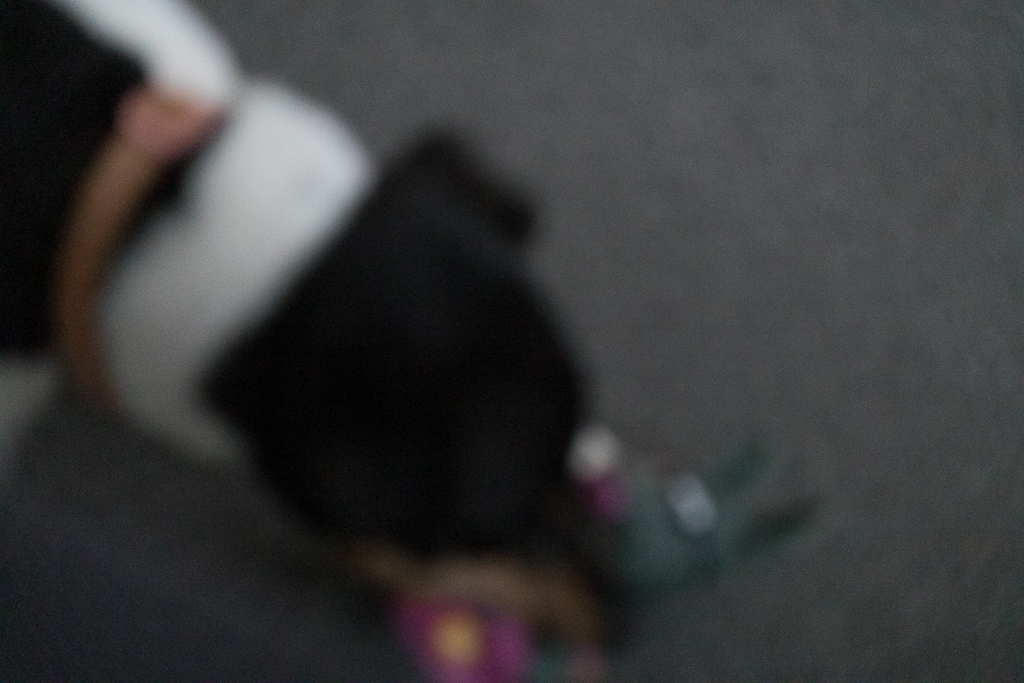Dog: (0, 0, 668, 683)
Humanoid: (356, 411, 844, 683)
